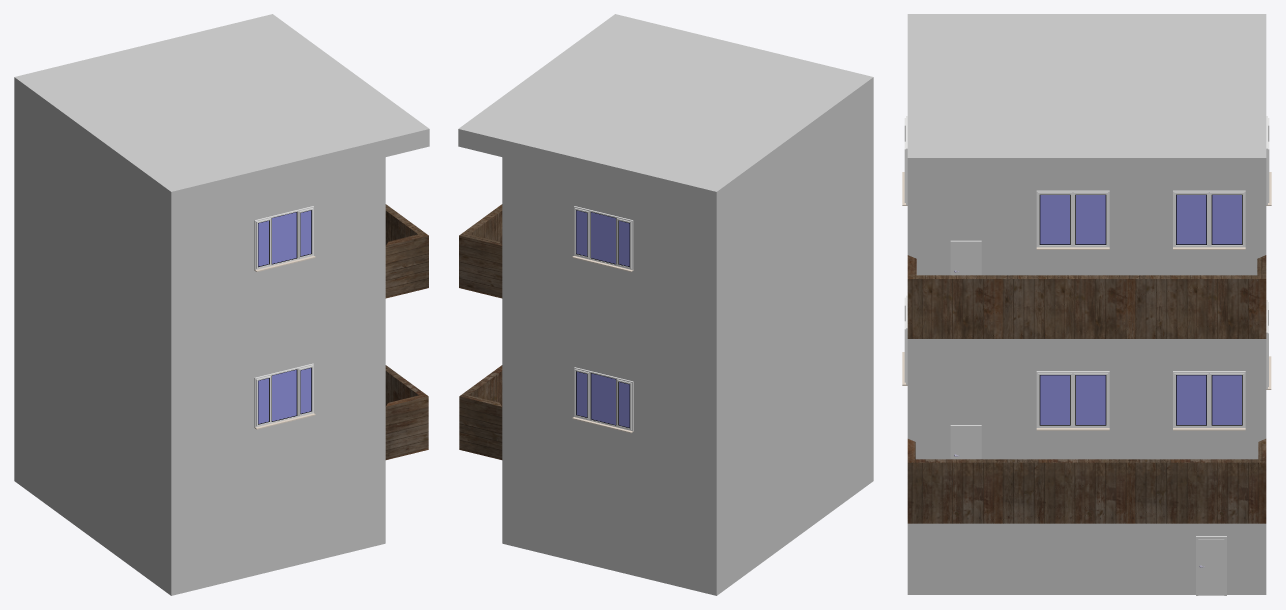
The model's file is building 3.fbx.
The picture shows the model from 3 angles, left to right: view 1: azimuth 30°, elevation 25°; view 2: azimuth 150°, elevation 25°; view 3: azimuth 270°, elevation 25°; orthographic projection. The views are drawn at different scales.
Visible parts, largest first — view 1: Plane.003, Window.010, Window.009; view 2: Plane.003, Window.007, Window.006; view 3: Plane.003, Window.003, Window.004, Window, Window.001, Door, Door.001, Door.002.
Boxes of the visible parts, x1,y1,x2,y2 form: Plane.003: [14, 14, 429, 595]; Window.010: [254, 363, 315, 429]; Window.009: [254, 206, 315, 271]; Plane.003: [458, 14, 873, 595]; Window.007: [572, 367, 633, 433]; Window.006: [572, 206, 633, 271]; Plane.003: [907, 14, 1266, 594]; Window.003: [1036, 371, 1109, 430]; Window.004: [1036, 190, 1109, 249]; Window: [1173, 190, 1245, 249]; Window.001: [1173, 371, 1245, 430]; Door: [1198, 539, 1224, 595]; Door.001: [953, 428, 978, 459]; Door.002: [953, 244, 978, 275].
Bounding box in the file's own units: 1097 × 1640 × 1189.
